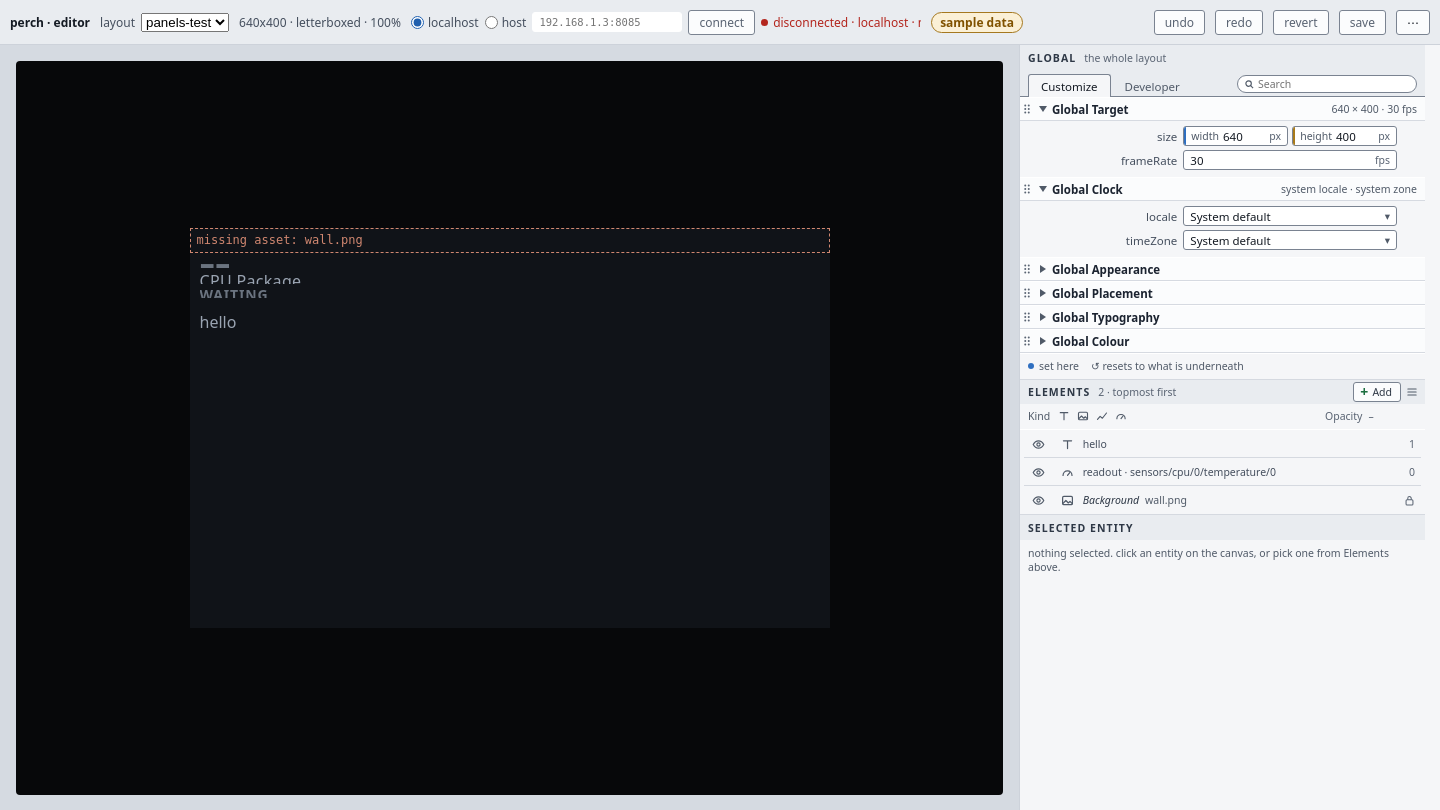
Test: dragging panels › still folds on a press that stays within the threshold
The width and height of the screenshot is (1440, 810).
Click the button "Global Target": click(1090, 109) [1034,98,1325,120]
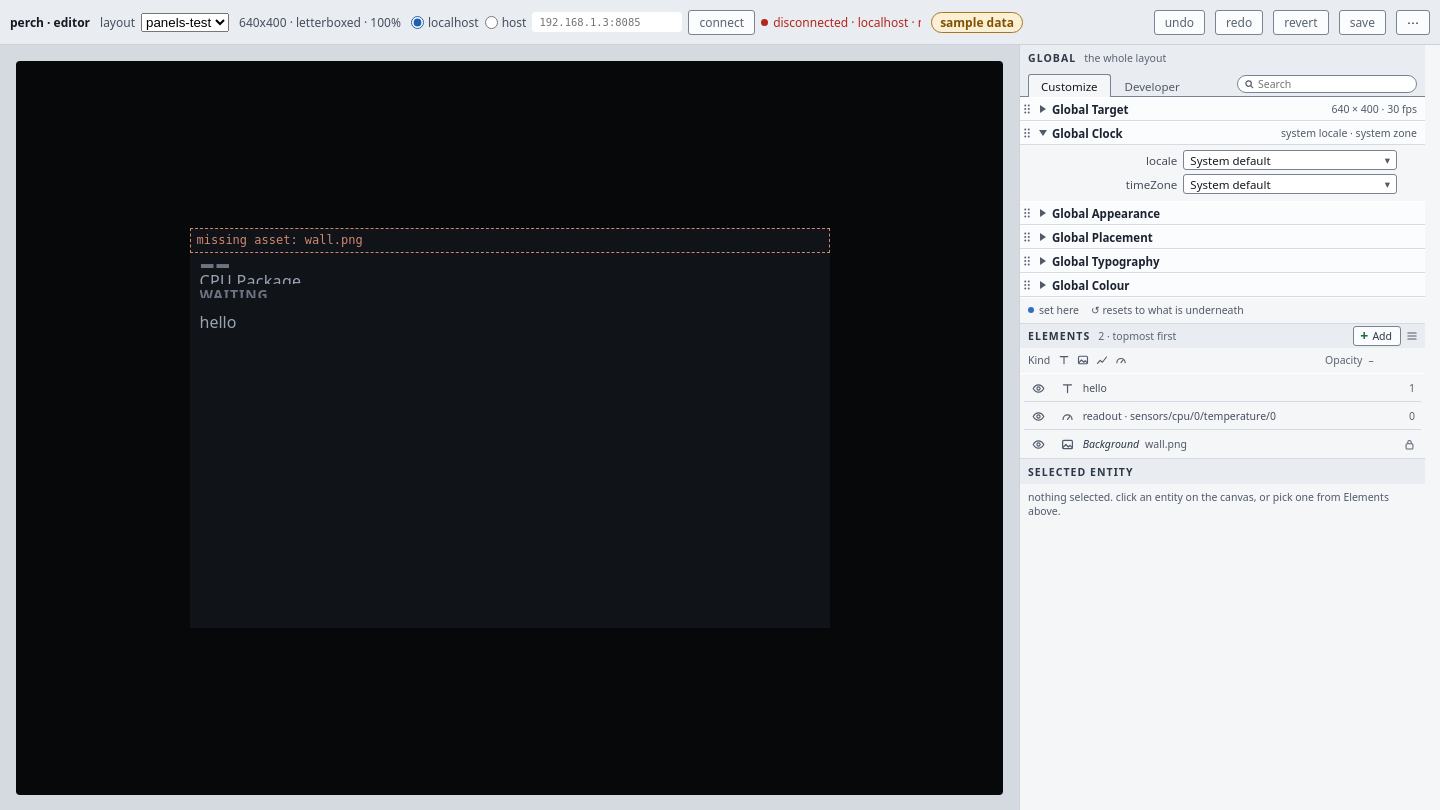
Check: the button "Global Target" is collapsed, box [1034,98,1325,120]
